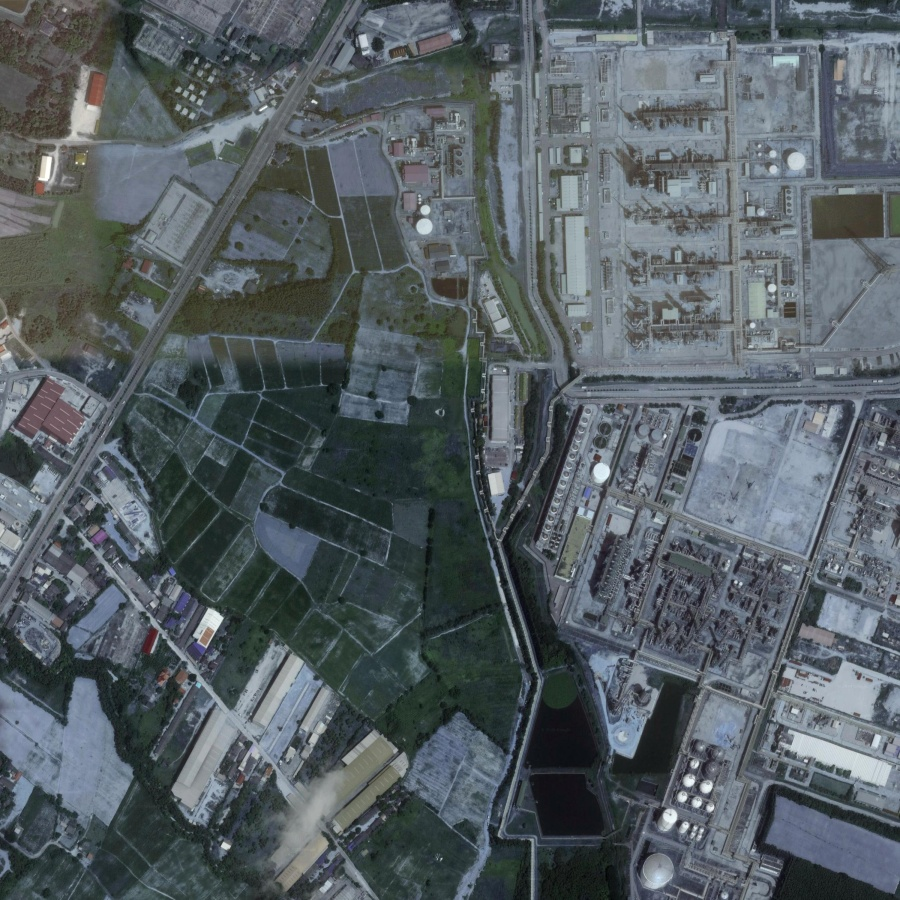PowerPlant: (613, 80, 807, 268)
